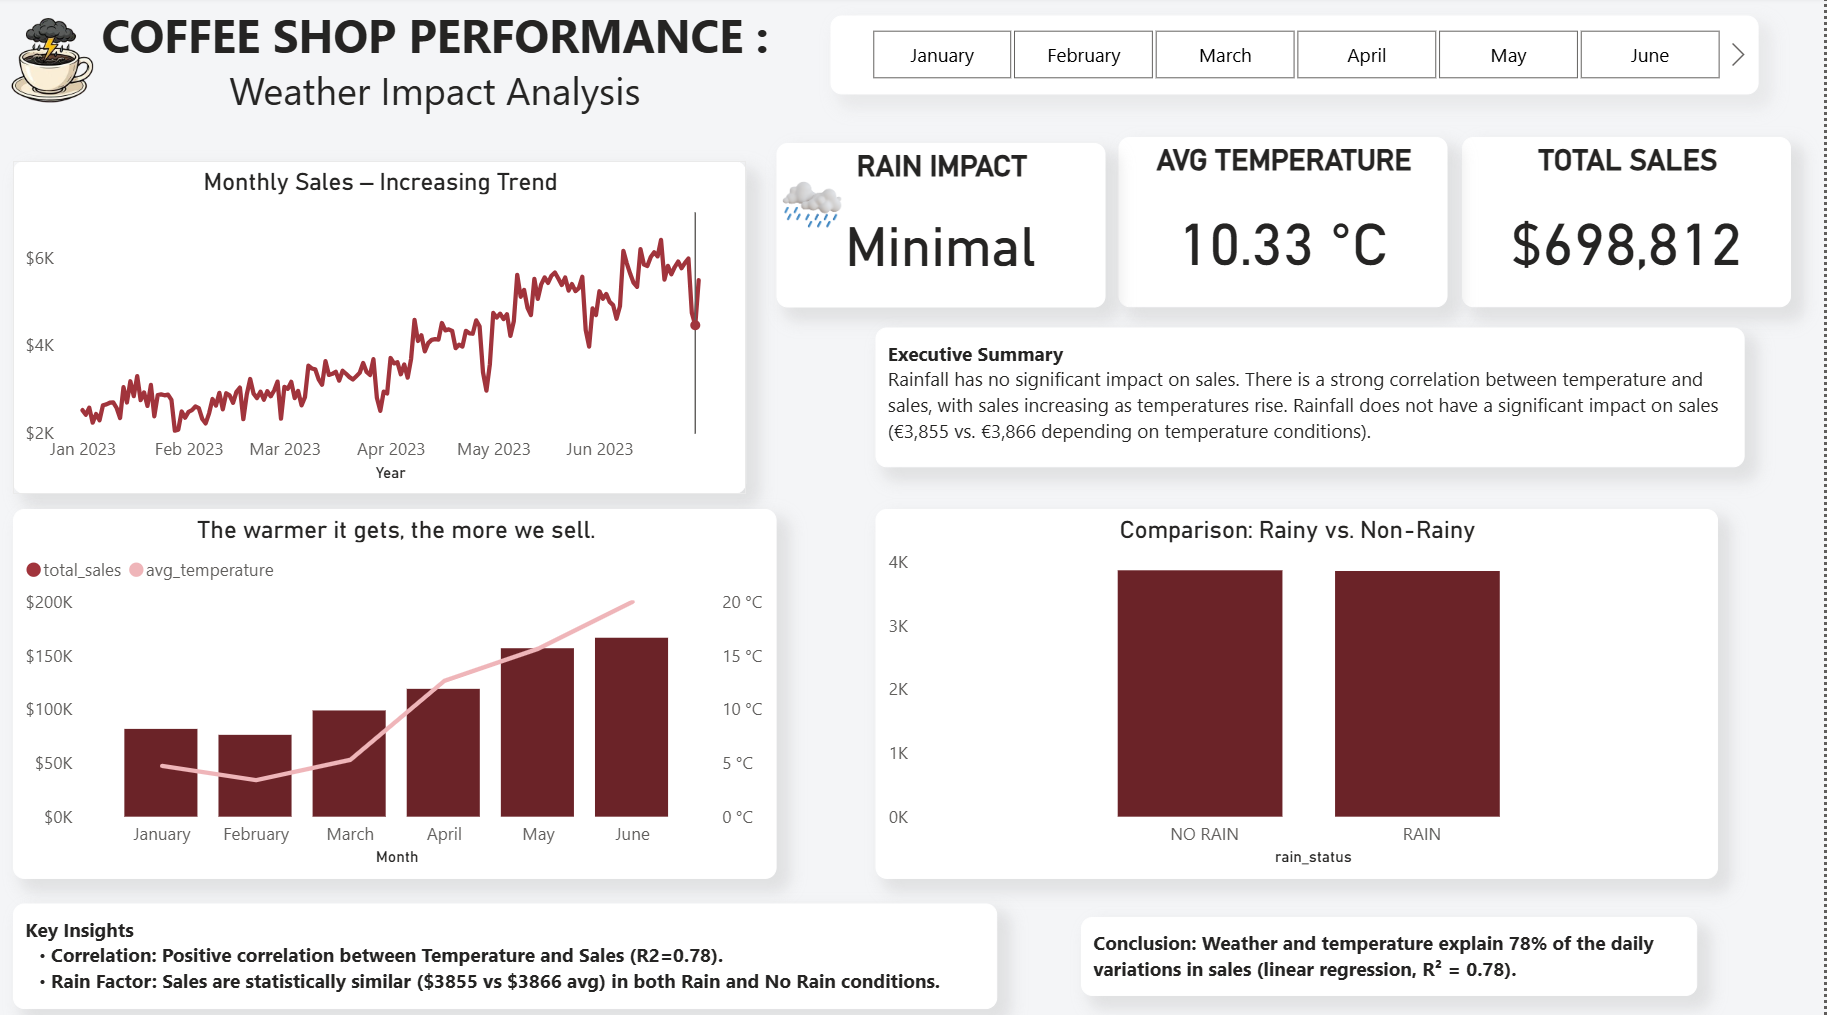

What the dashboard file says about the page in this screenshot:
{"tool":"powerbi","page":{"name":"Coffee Shop Sales","canvas":[1280,720],"ordinal":0},"visuals":[{"type":"textbox","box":[61.7,0,488.6,99.3],"z":0},{"type":"lineChart","title":"Monthly Sales – Increasing Trend","fields":{"Y":["A_measures.total_sales"],"Category":["coffee_weather.transaction_date.Variation.Date Hierarchy.Month"]},"box":[10.7,115.4,514.1,233.5],"z":1000},{"type":"lineClusteredColumnComboChart","title":"The warmer it gets, the more we sell.","fields":{"Category":["coffee_weather.transaction_date.Variation.Date Hierarchy.Month","coffee_weather.transaction_date.Variation.Date Hierarchy.Day"],"Y":["A_measures.total_sales"],"Y2":["A_measures.avg_temperature"]},"box":[10.7,359.7,535.5,259],"z":2000},{"type":"card","title":"TOTAL SALES","fields":{"Values":["A_measures.total_sales"]},"box":[1026.8,99.3,230.9,119.5],"z":4000},{"type":"card","title":"AVG TEMPERATURE","fields":{"Values":["A_measures.avg_temperature"]},"box":[785.2,99.3,230.9,119.5],"z":5000},{"type":"card","title":"RAIN IMPACT","fields":{"Values":["A_measures.Impact_Pluie"]},"box":[546.3,103.3,230.9,115.4],"z":6000},{"type":"image","box":[512.7,115.4,115.4,61.7],"z":7000},{"type":"slicer","fields":{"Values":["coffee_weather.transaction_date.Variation.Date Hierarchy.Month"]},"box":[583.9,13.4,651,55],"z":8000},{"type":"columnChart","title":"Comparison: Rainy vs. Non-Rainy ","fields":{"Category":["coffee_weather.rain_status"],"Y":["A_measures.avg_total_sales"]},"box":[614.7,359.7,590.6,259],"z":9000},{"type":"textbox","box":[10.7,636.2,689.9,73.8],"z":10000},{"type":"textbox","box":[759.7,645.6,432.2,55],"z":11000},{"type":"textbox","box":[614.7,232.2,609.4,98],"z":11001},{"type":"image","box":[0,6.7,76.5,75.2],"z":11002}]}

Visuals, with their boxes in screenshot pixels (x1, y1, x2, y2), scaled from the page's 1280x720 canvas onto the 1827x1015 screenshot:
textbox: detection(88, 0, 785, 140)
"Monthly Sales – Increasing Trend" lineChart: detection(15, 163, 749, 492)
"The warmer it gets, the more we sell." lineClusteredColumnComboChart: detection(15, 507, 780, 872)
"TOTAL SALES" card: detection(1466, 140, 1795, 308)
"AVG TEMPERATURE" card: detection(1121, 140, 1450, 308)
"RAIN IMPACT" card: detection(780, 146, 1109, 308)
image: detection(732, 163, 897, 250)
slicer - coffee_weather.transaction_date.Variation.Date Hierarchy.Month: detection(833, 19, 1763, 96)
"Comparison: Rainy vs. Non-Rainy " columnChart: detection(877, 507, 1720, 872)
textbox: detection(15, 897, 1000, 1001)
textbox: detection(1084, 910, 1701, 988)
textbox: detection(877, 327, 1747, 465)
image: detection(0, 9, 109, 115)
